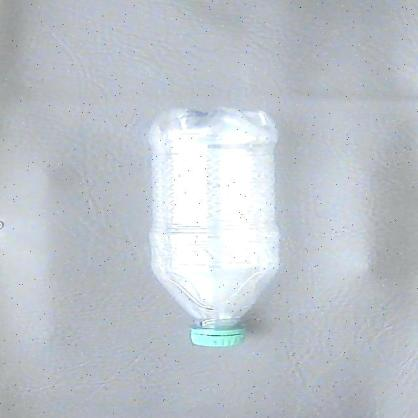bottle: (145, 105, 286, 350)
cap: (186, 326, 252, 348)
